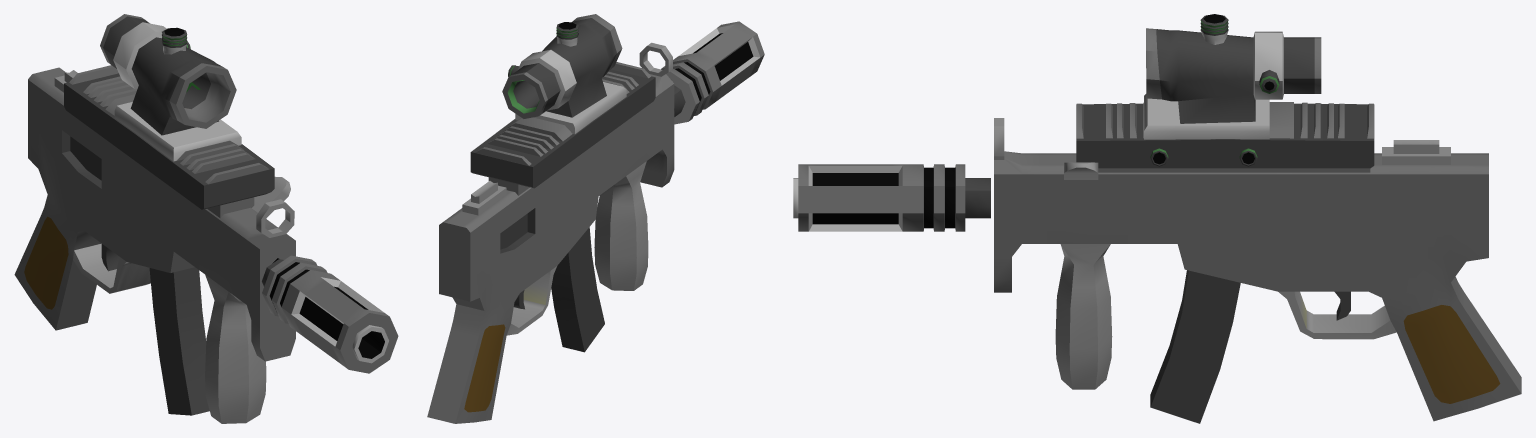
Rendered from 22-Optic-SMG.glb.
The picture shows the model from 3 angles, left to right: view 1: azimuth 30°, elevation 25°; view 2: azimuth 150°, elevation 25°; view 3: azimuth 270°, elevation 25°; orthographic projection. The views are drawn at different scales.
Visible parts, largest first — view 1: Optic SMG; view 2: Optic SMG; view 3: Optic SMG.
Boxes of the visible parts, x1,y1,x2,y2 form: Optic SMG: (14,14,398,423); Optic SMG: (427,14,764,423); Optic SMG: (793,14,1521,423).
Size of the model in its own units: 0.0985 by 0.4106 by 0.68.
Materials: 1 (1 with a texture image).
